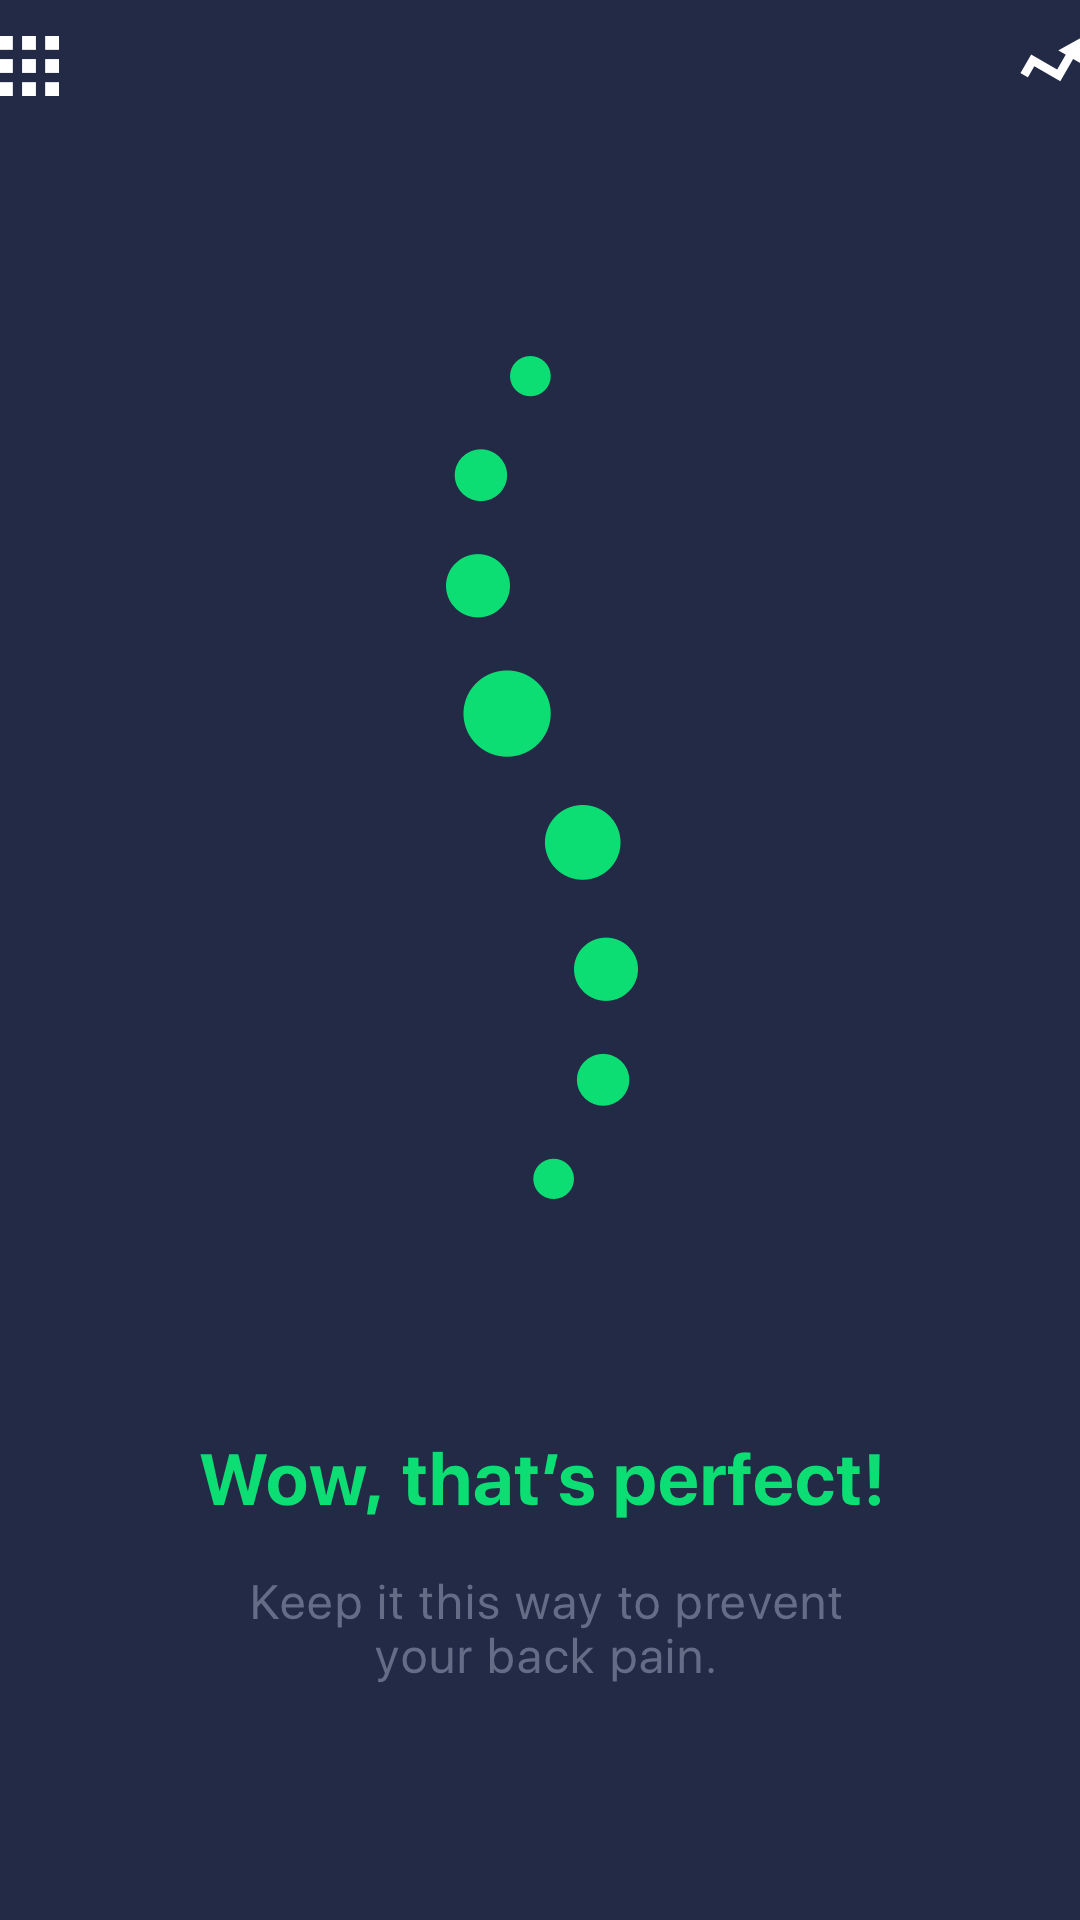

Icons on this 1080w x 1920h Android screen, each with the point to tap as (x=x, y=y):
menu: (x=29, y=66)
progress: (x=1050, y=59)
